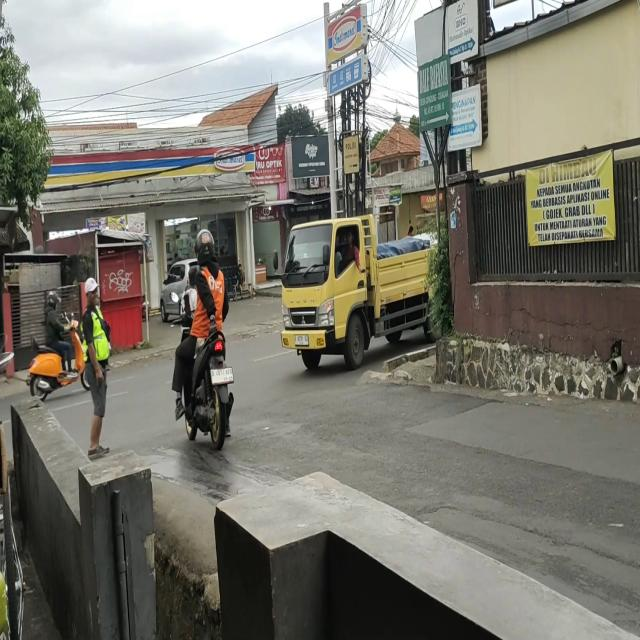helmet: (195, 228, 214, 264), (48, 290, 58, 310)
